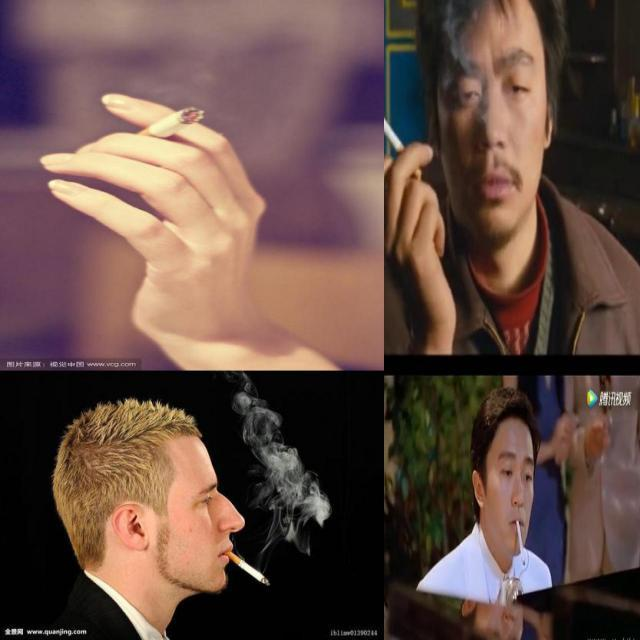cigarette: (384, 99, 425, 182), (134, 106, 206, 140), (224, 547, 272, 588), (516, 520, 526, 567)
